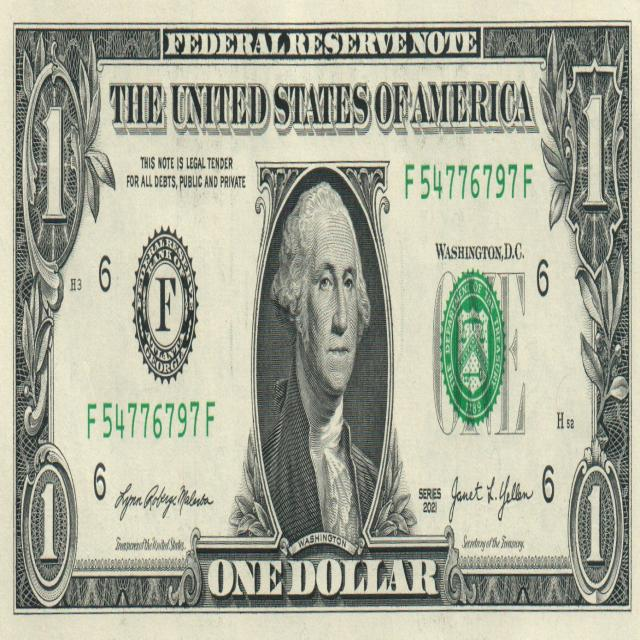SerialNumber: (405, 164, 532, 199), (88, 402, 200, 438)
